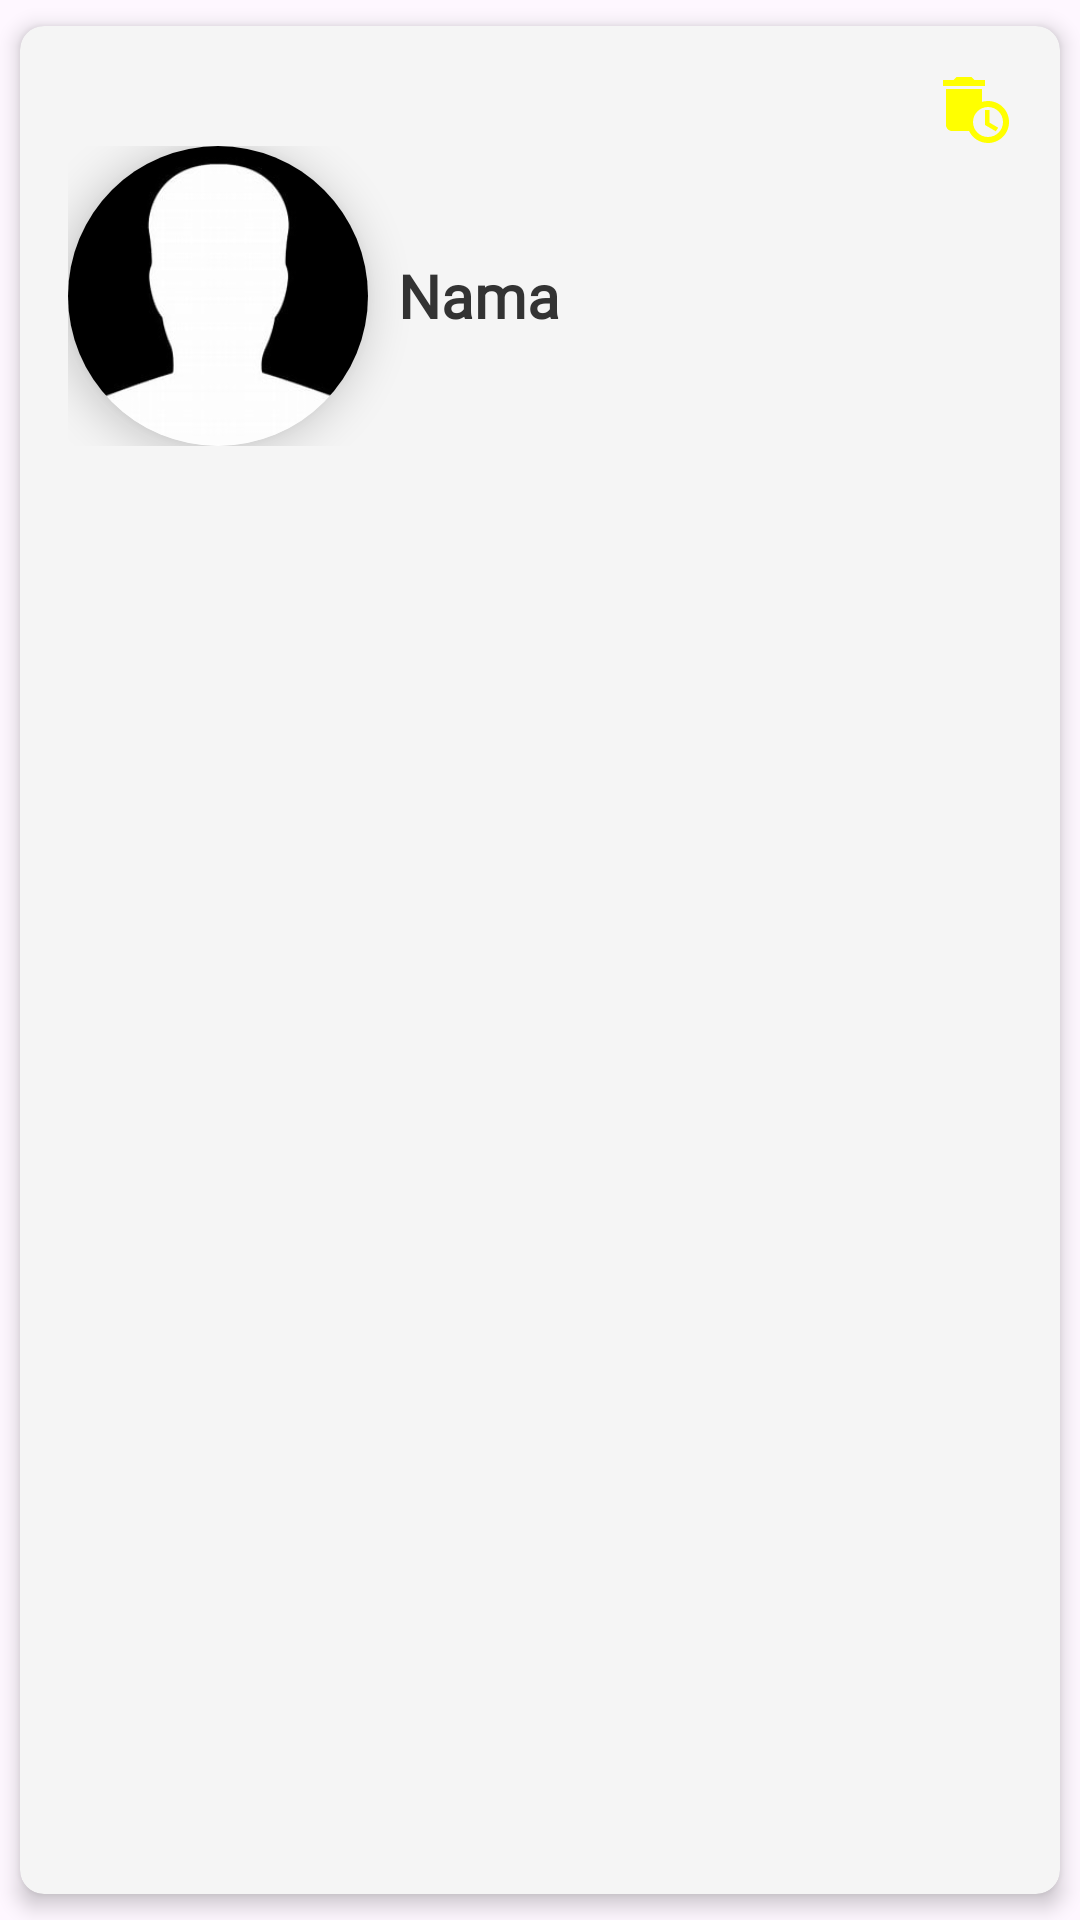

Icon bounding boxes for this 1080 × 1920 phone screenshot, format (x1, y1, x2, y2):
auto delete: (943, 77, 1009, 143)
